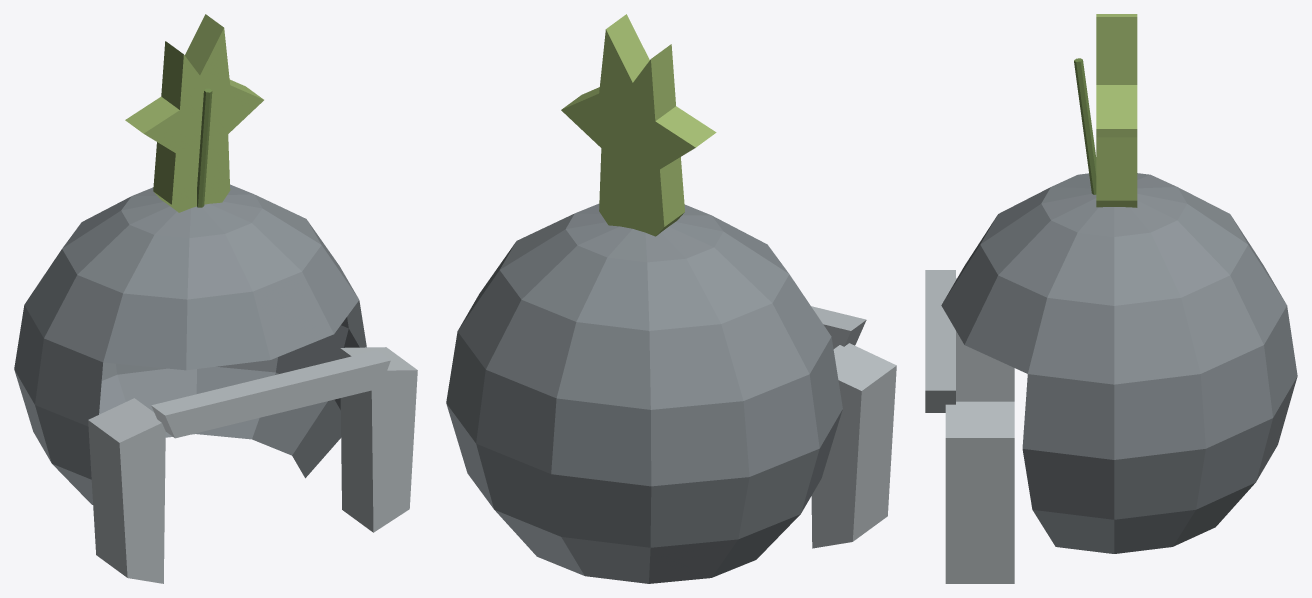
3 views of the same model, side by side, from view 1: azimuth 30°, elevation 25°; view 2: azimuth 150°, elevation 25°; view 3: azimuth 270°, elevation 25° (orthographic). The views are drawn at different scales.
Parts seen in each view (by area): view 1: helmet_dome, top_leaf, guard_L, guard_R, brow_rim, leaf_vein; view 2: helmet_dome, top_leaf, guard_L, brow_rim; view 3: helmet_dome, guard_R, top_leaf, brow_rim, guard_L, leaf_vein.
Part boxes in pixels (box(x1,y1,x2,y2)): helmet_dome: box(14, 184, 366, 504); top_leaf: box(125, 14, 263, 212); guard_L: box(88, 398, 165, 583); guard_R: box(340, 347, 417, 532); brow_rim: box(151, 350, 390, 438); leaf_vein: box(197, 88, 212, 207); helmet_dome: box(446, 203, 842, 583); top_leaf: box(561, 14, 716, 236); guard_L: box(811, 343, 896, 548); brow_rim: box(811, 306, 866, 348); helmet_dome: box(941, 173, 1297, 553); guard_R: box(945, 401, 1014, 583); top_leaf: box(1096, 14, 1137, 207); brow_rim: box(925, 270, 955, 412); guard_L: box(956, 278, 1014, 401); leaf_vein: box(1074, 58, 1096, 194).
Size of the model in its own units: 1.56 by 2.25 by 1.46.
